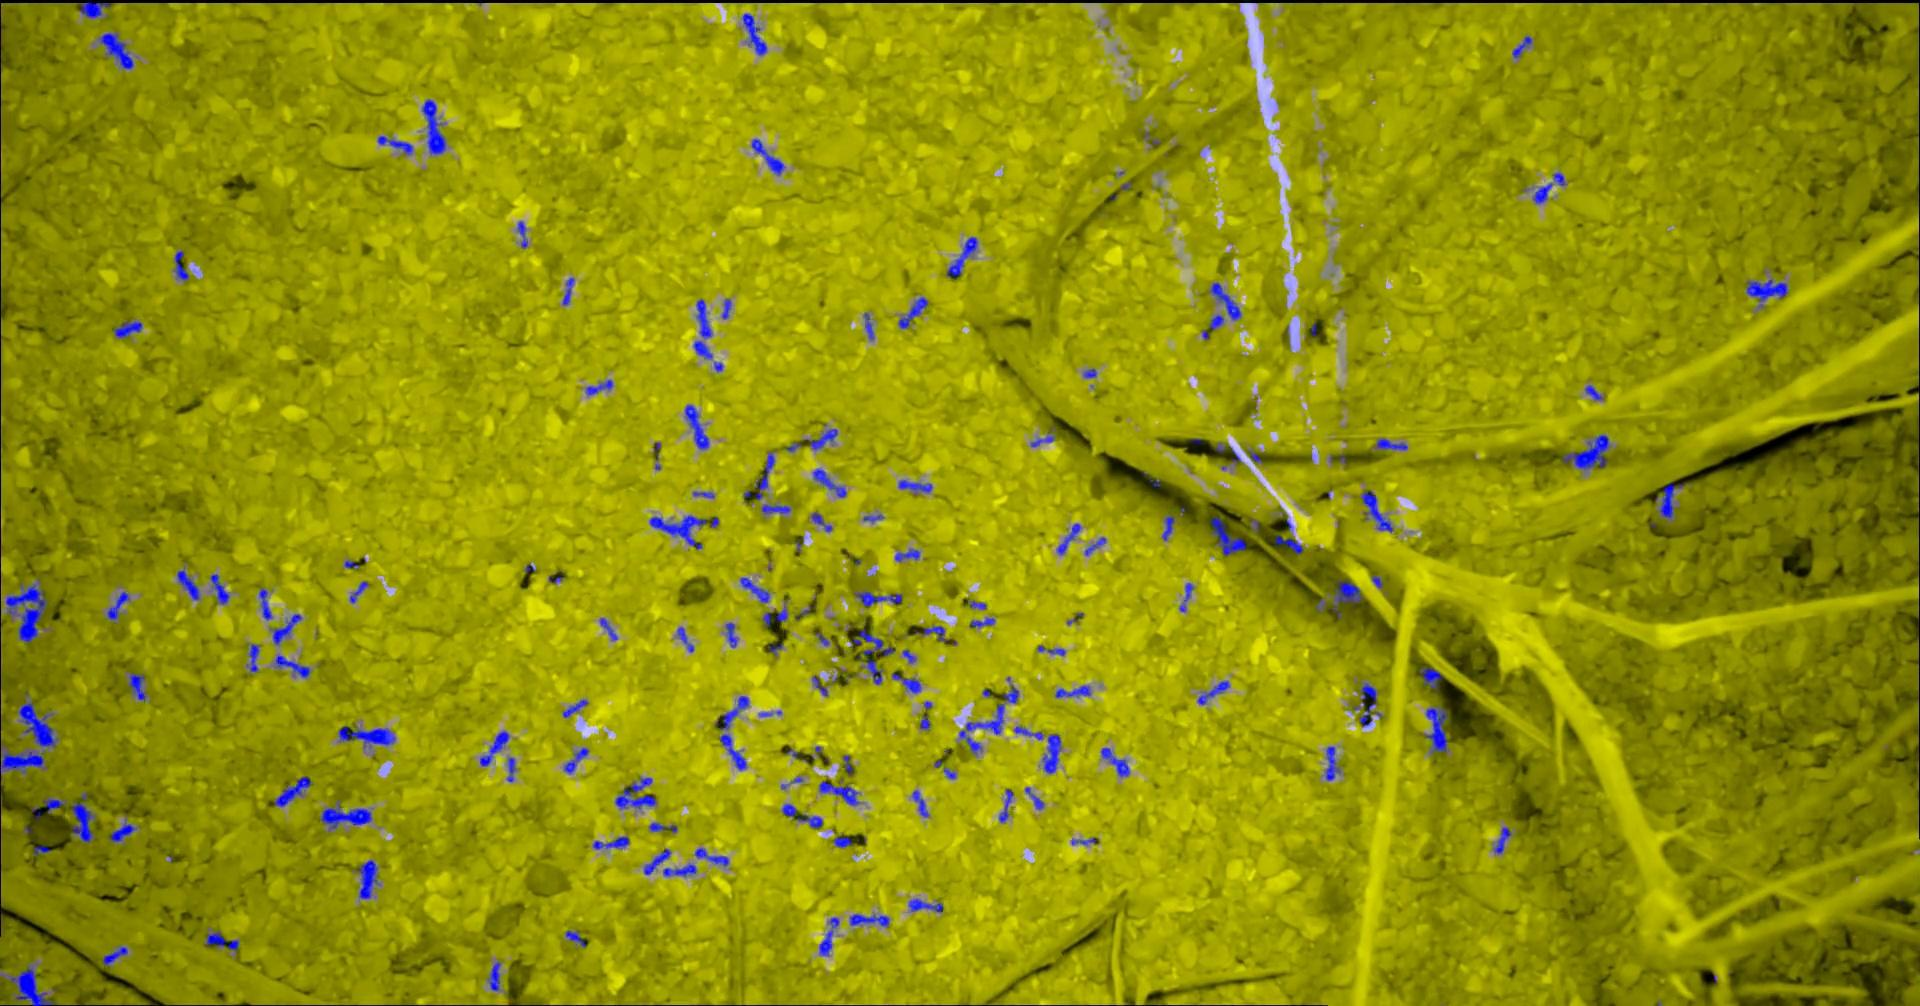ant: (959, 702, 1004, 754), (719, 695, 748, 768), (18, 701, 57, 752), (649, 514, 706, 547), (9, 965, 55, 1005), (1562, 434, 1609, 469), (743, 452, 775, 499), (0, 751, 43, 785), (1209, 516, 1246, 555), (320, 803, 371, 829), (850, 627, 895, 655), (99, 32, 133, 69), (422, 99, 444, 154), (946, 236, 977, 277), (1361, 490, 1392, 531), (615, 777, 655, 808), (750, 138, 783, 175), (338, 725, 394, 747), (273, 776, 310, 807), (1210, 282, 1239, 320), (1423, 706, 1448, 752), (1746, 279, 1787, 306), (684, 404, 709, 448), (693, 298, 711, 358), (479, 730, 508, 766), (818, 780, 858, 805), (781, 803, 822, 828), (742, 13, 766, 55), (1330, 580, 1363, 611), (1359, 683, 1382, 727), (71, 801, 95, 842), (813, 467, 846, 497), (270, 614, 301, 644), (898, 297, 927, 328), (1658, 481, 1683, 518), (1100, 747, 1129, 776), (357, 859, 378, 898), (739, 577, 770, 602), (1043, 733, 1062, 774), (1197, 680, 1229, 704), (276, 655, 310, 677), (819, 917, 838, 955), (855, 591, 902, 606), (643, 848, 670, 874), (1057, 523, 1079, 554), (177, 569, 199, 600), (563, 747, 588, 774), (105, 591, 130, 619), (377, 135, 411, 154), (1418, 666, 1441, 694), (695, 847, 728, 866), (204, 930, 237, 949), (806, 428, 837, 448), (210, 573, 229, 605), (891, 672, 919, 694), (77, 0, 112, 17), (1274, 535, 1303, 554), (109, 821, 136, 841), (916, 625, 947, 641), (998, 788, 1013, 822), (850, 913, 888, 926), (102, 946, 127, 965), (113, 321, 142, 338), (1324, 746, 1338, 780), (662, 862, 696, 876), (592, 836, 629, 848), (1511, 36, 1531, 58), (1054, 685, 1090, 697), (910, 790, 928, 815), (908, 898, 943, 911), (258, 587, 272, 619), (128, 673, 145, 700), (1531, 182, 1552, 203), (1023, 786, 1043, 809), (563, 699, 587, 716), (898, 479, 931, 492), (677, 626, 693, 652), (174, 250, 188, 279), (1178, 582, 1192, 611), (585, 379, 612, 394), (349, 580, 367, 603), (1495, 827, 1510, 854), (865, 659, 881, 683), (599, 617, 617, 639), (42, 796, 65, 813), (1013, 727, 1043, 739), (811, 512, 830, 531), (1084, 537, 1105, 555), (894, 547, 919, 561), (488, 962, 500, 989), (1001, 683, 1018, 702), (565, 930, 585, 946), (246, 643, 258, 671), (1377, 438, 1407, 448), (811, 674, 827, 695), (1583, 384, 1603, 399), (1162, 514, 1173, 540), (517, 220, 527, 248), (648, 822, 676, 832), (725, 622, 737, 647), (563, 277, 573, 304), (1037, 645, 1064, 655), (761, 504, 790, 513), (1030, 436, 1054, 446), (505, 757, 516, 781), (863, 312, 872, 339), (842, 754, 853, 775), (970, 617, 994, 626), (833, 836, 851, 847), (1550, 171, 1564, 185), (1209, 315, 1223, 329), (721, 298, 731, 318), (775, 606, 787, 621), (33, 845, 50, 855), (1070, 837, 1096, 843), (919, 715, 930, 729)
